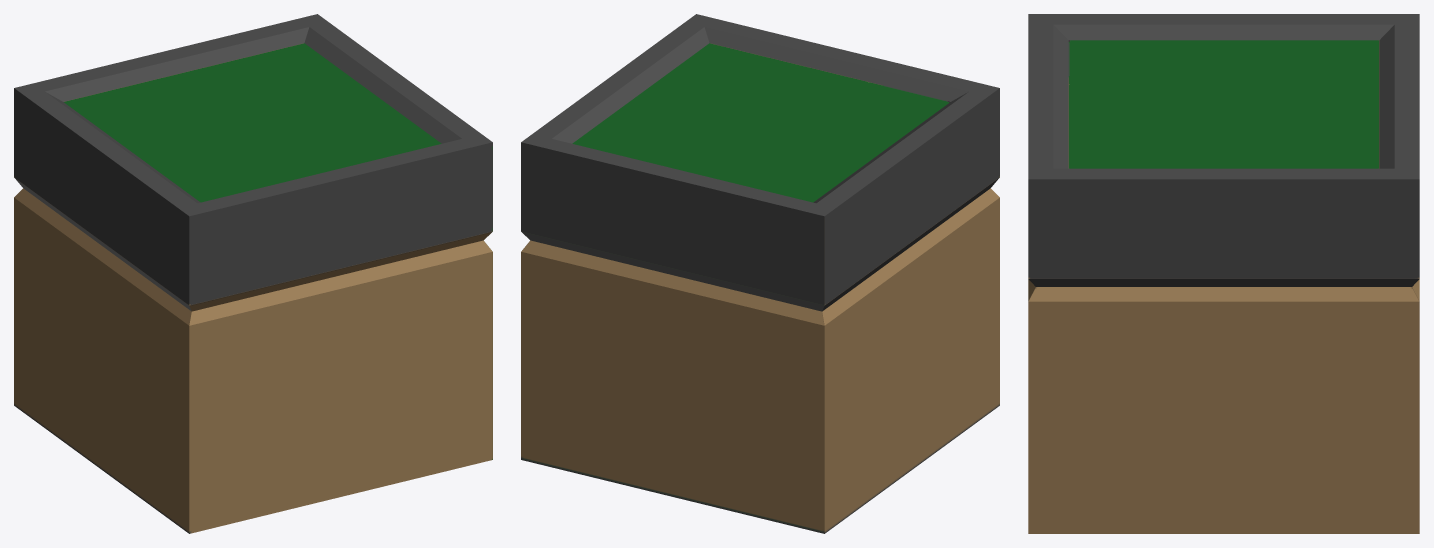
The model's file is Tile_Path_Buildable.fbx.
3 views of the same model, side by side, from view 1: azimuth 30°, elevation 25°; view 2: azimuth 150°, elevation 25°; view 3: azimuth 270°, elevation 25° (orthographic). The views are drawn at different scales.
Parts seen in each view (by area): view 1: Cube; view 2: Cube; view 3: Cube.
Boxes of the visible parts, x1,y1,x2,y2 form: Cube: (14,14,492,533); Cube: (521,14,999,533); Cube: (1028,14,1419,533).
Size of the model in its own units: 200 by 200 by 200.
